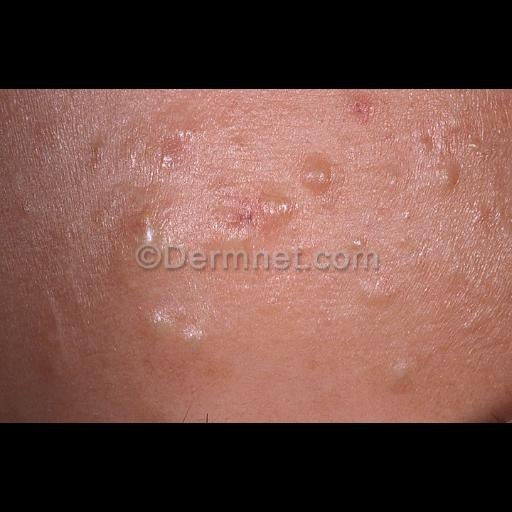Skin_Lesion: (138, 298, 218, 358), (223, 190, 291, 244), (89, 120, 141, 180), (119, 200, 163, 258), (300, 144, 336, 200), (158, 132, 200, 176), (388, 353, 420, 397), (342, 94, 378, 130), (434, 160, 462, 194)
